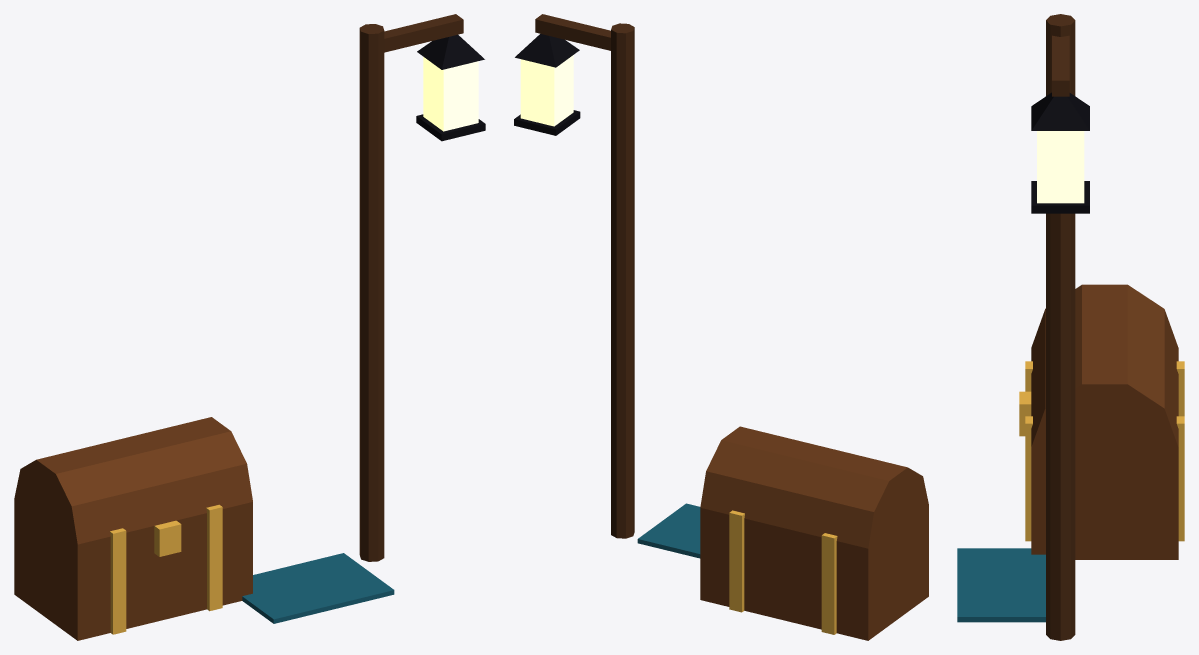
The model's file is shop_inn_yard.gltf.
3 renders of one model, left to right at view 1: azimuth 30°, elevation 25°; view 2: azimuth 150°, elevation 25°; view 3: azimuth 270°, elevation 25°, orthographic. The views are drawn at different scales.
Visible parts, largest first — view 1: ShopInnYardShopLeather, ShopInnYardShopWood, ShopInnYardShopCloth, ShopInnYardShopGold, ShopInnYardShopLamp, ShopInnYardShopIron; view 2: ShopInnYardShopLeather, ShopInnYardShopWood, ShopInnYardShopLamp, ShopInnYardShopGold, ShopInnYardShopCloth, ShopInnYardShopIron; view 3: ShopInnYardShopLeather, ShopInnYardShopWood, ShopInnYardShopCloth, ShopInnYardShopLamp, ShopInnYardShopGold, ShopInnYardShopIron.
Boxes of the visible parts, left/top/right/bottom form: ShopInnYardShopLeather: left=14, top=417, right=252, bottom=640; ShopInnYardShopWood: left=359, top=14, right=463, bottom=561; ShopInnYardShopCloth: left=242, top=553, right=394, bottom=623; ShopInnYardShopGold: left=110, top=504, right=222, bottom=634; ShopInnYardShopLamp: left=423, top=57, right=478, bottom=131; ShopInnYardShopIron: left=416, top=34, right=485, bottom=141; ShopInnYardShopLeather: left=700, top=426, right=928, bottom=640; ShopInnYardShopWood: left=535, top=14, right=634, bottom=538; ShopInnYardShopLamp: left=520, top=55, right=573, bottom=126; ShopInnYardShopGold: left=729, top=510, right=837, bottom=634; ShopInnYardShopCloth: left=637, top=503, right=700, bottom=558; ShopInnYardShopIron: left=514, top=34, right=580, bottom=135; ShopInnYardShopLeather: left=1031, top=284, right=1178, bottom=559; ShopInnYardShopWood: left=1046, top=14, right=1075, bottom=640; ShopInnYardShopCloth: left=957, top=548, right=1045, bottom=622; ShopInnYardShopLamp: left=1037, top=131, right=1084, bottom=203; ShopInnYardShopGold: left=1019, top=361, right=1184, bottom=541; ShopInnYardShopIron: left=1031, top=92, right=1089, bottom=213.
Size of what is drawn, in the model's own units: 1.86 by 2.3 by 0.77.
